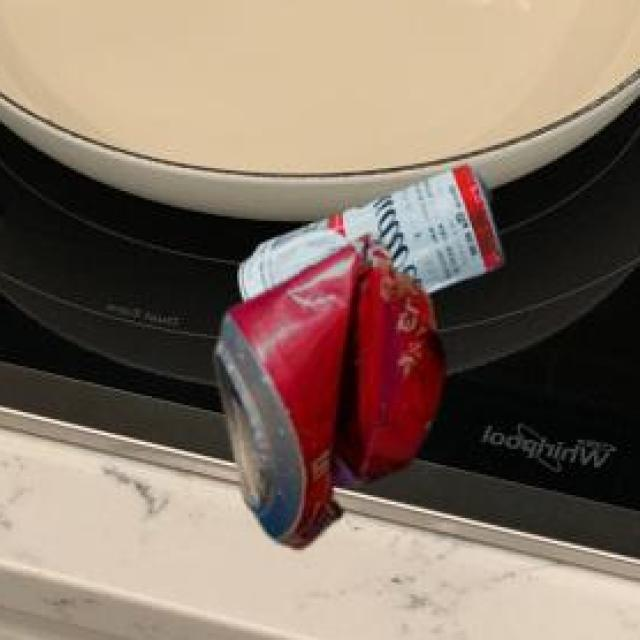logam: (220, 231, 448, 544), (243, 162, 508, 298)
